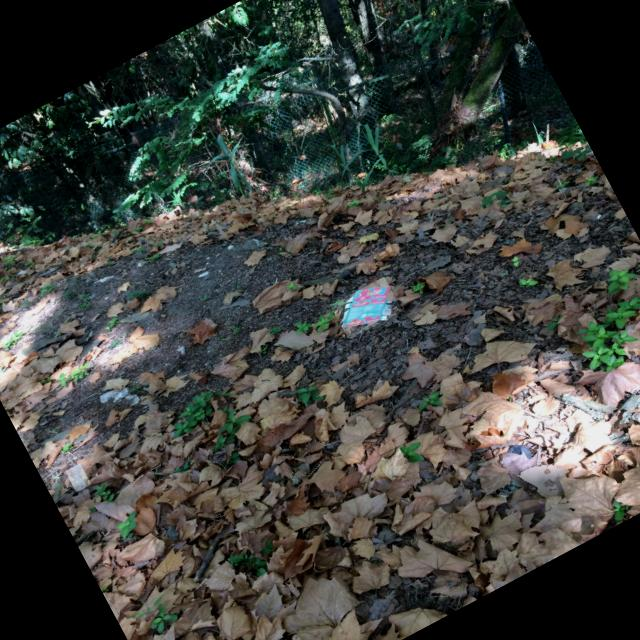Other Carton: (343, 287, 393, 327)
Plastic film: (70, 463, 85, 491)
